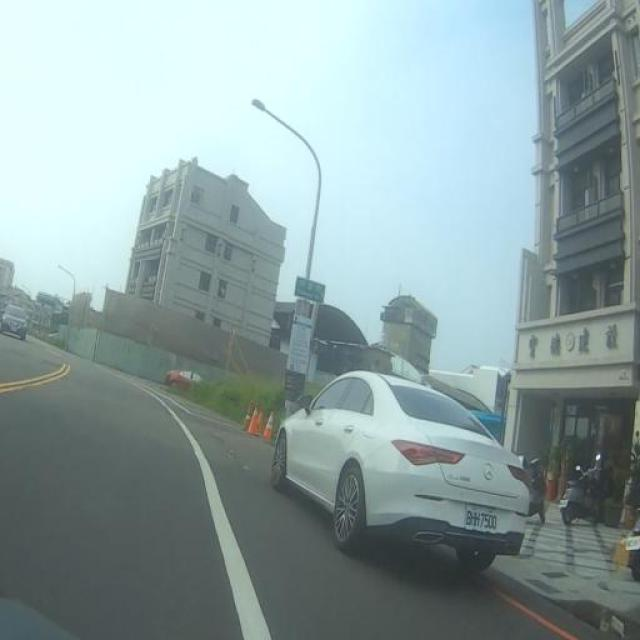Legalparking: (248, 349, 591, 575)
